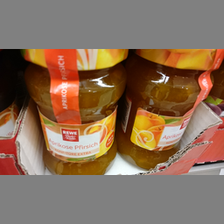jam: (22, 49, 129, 175), (118, 49, 224, 170)
